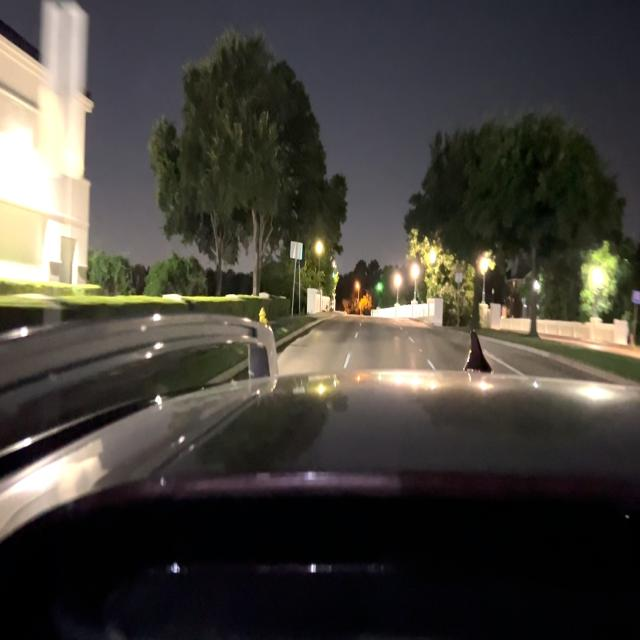back-of-sign: (291, 239, 302, 257)
